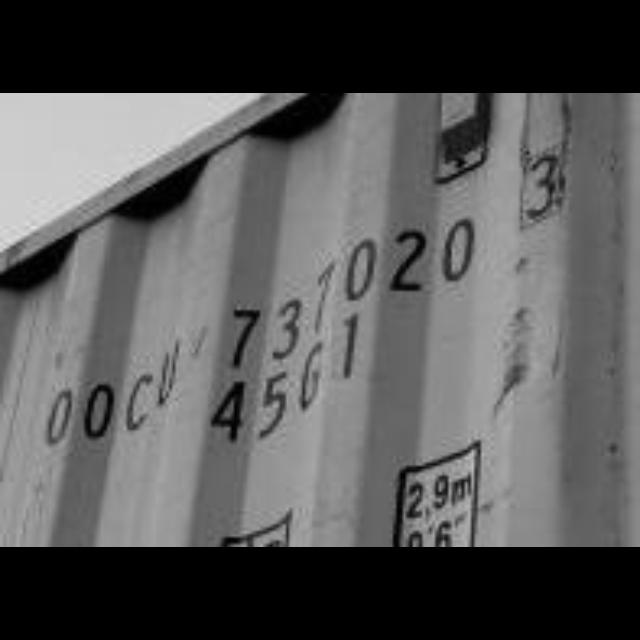0: (341, 232, 382, 310), (439, 210, 478, 288)
1: (339, 312, 367, 386)
2: (392, 222, 431, 302), (399, 478, 425, 522)
3: (523, 149, 561, 225), (274, 292, 302, 362)
4: (210, 374, 254, 448)
5: (256, 368, 292, 442)
7: (224, 298, 262, 372), (308, 262, 344, 332)
9: (431, 470, 452, 512)
c: (122, 364, 158, 440)
g: (294, 341, 330, 419)
o: (78, 371, 122, 452), (40, 379, 78, 453)
u: (160, 326, 194, 410)
